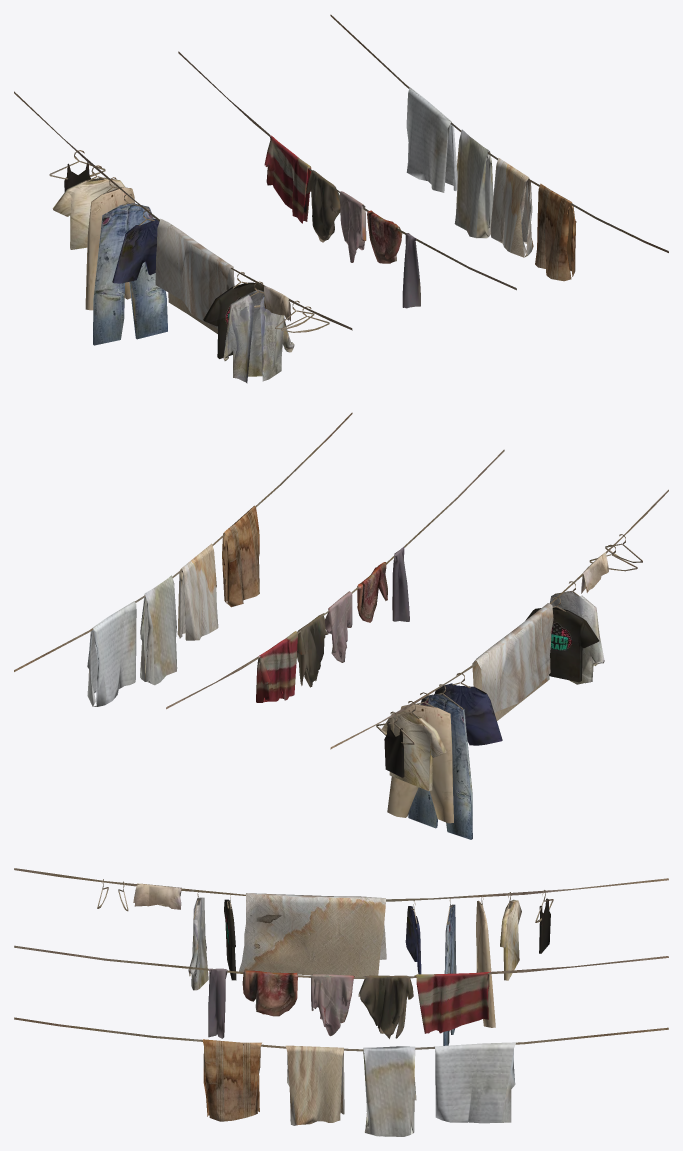
File: p_laundry_line.glb
3 renders of one model, top to bottom at view 1: azimuth 30°, elevation 25°; view 2: azimuth 150°, elevation 25°; view 3: azimuth 270°, elevation 25°, orthographic. The views are drawn at different scales.
Bounding box in the file's own units: 21.68 × 9.92 × 34.46.
5 materials, 5 textured.
